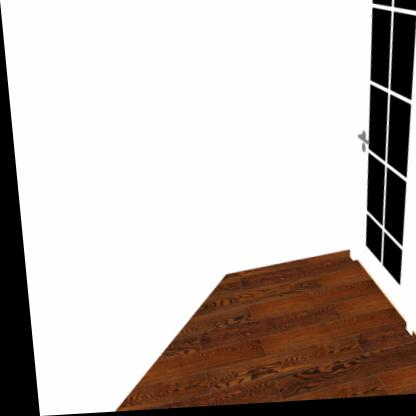Wooden floor: (108, 255, 416, 412)
